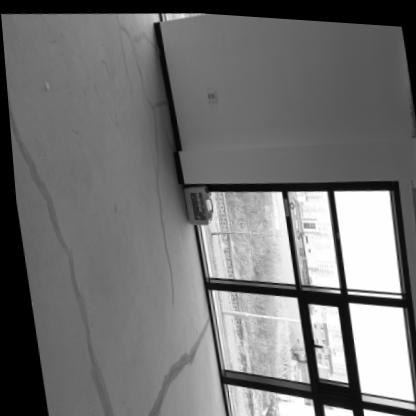DDL: (179, 183, 212, 224)
